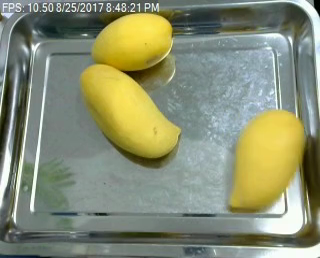Mango: (68, 64, 185, 164), (229, 106, 308, 213), (87, 11, 177, 70)
